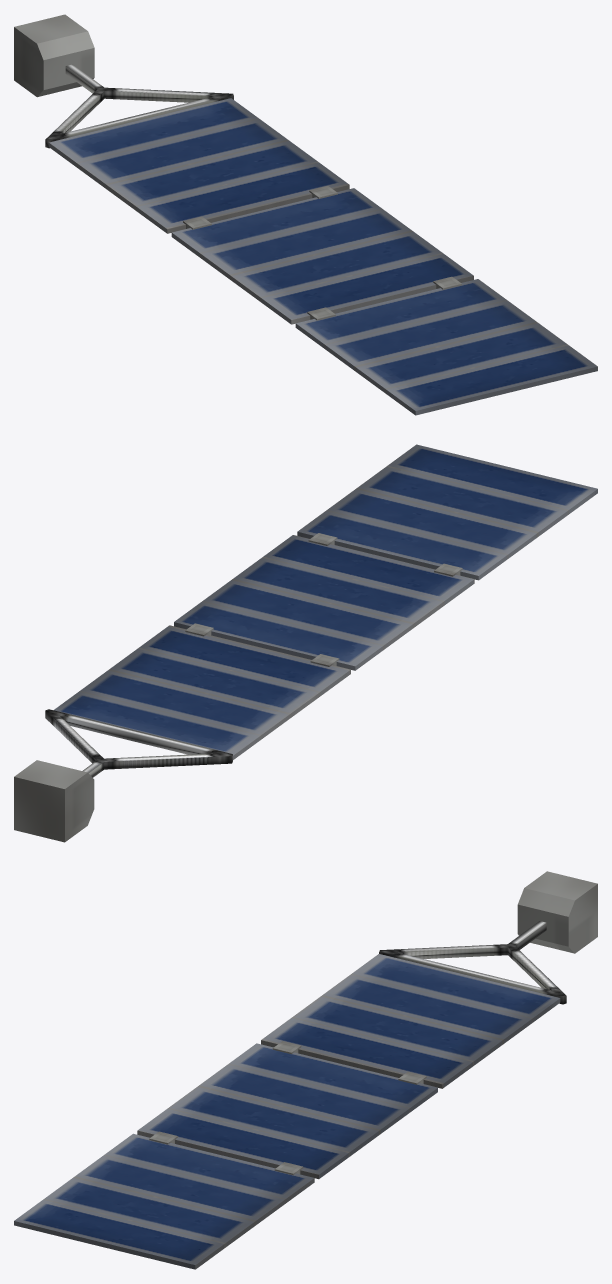
File: solarpanel.DAE
3 renders of one model, top to bottom at view 1: azimuth 30°, elevation 25°; view 2: azimuth 150°, elevation 25°; view 3: azimuth 330°, elevation 25°, orthographic.
Parts seen in each view (by area): view 1: obj_leg-Pivot, obj_anchor-Pivot; view 2: obj_leg-Pivot, obj_anchor-Pivot; view 3: obj_leg-Pivot, obj_anchor-Pivot.
Boxes of the visible parts, <box> form: obj_leg-Pivot: <box>45,64,597,415</box>; obj_anchor-Pivot: <box>14,14,94,97</box>; obj_leg-Pivot: <box>45,444,597,777</box>; obj_anchor-Pivot: <box>14,760,94,842</box>; obj_leg-Pivot: <box>14,921,566,1269</box>; obj_anchor-Pivot: <box>517,871,597,953</box>.
Size of what is drawn, in the model's own units: 0.2735 by 0.0745 by 1.18.
